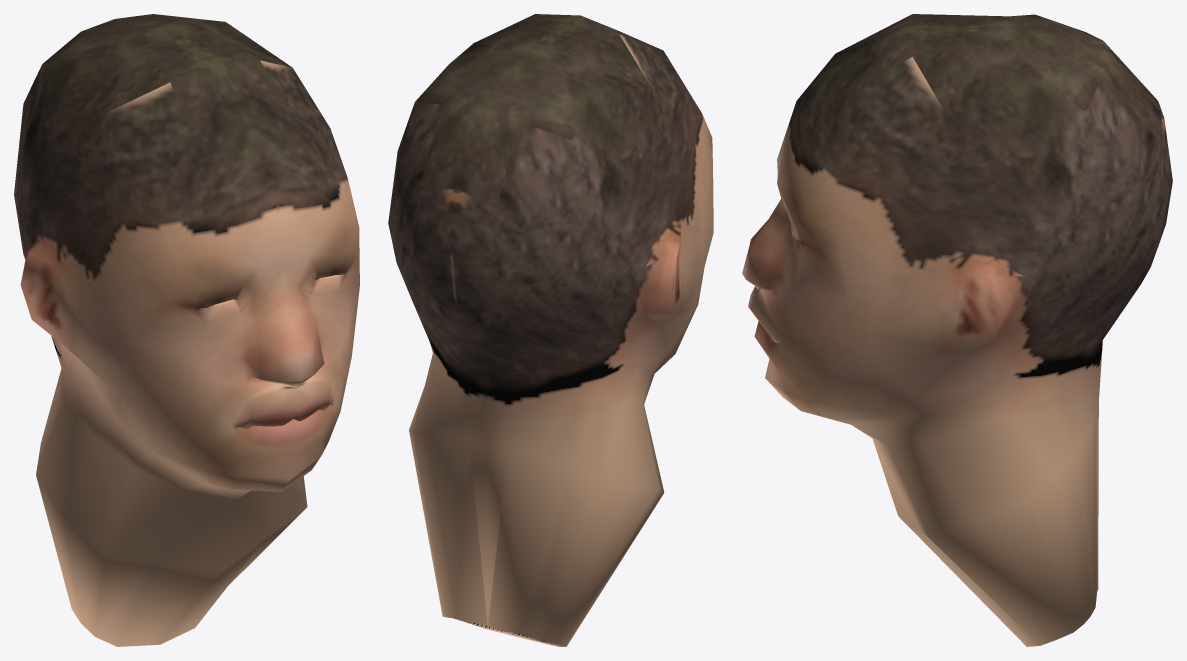
File: Animated.dae
3 renders of one model, left to right at view 1: azimuth 30°, elevation 25°; view 2: azimuth 150°, elevation 25°; view 3: azimuth 270°, elevation 25°, orthographic. The views are drawn at different scales.
Visible parts, largest first — view 1: Head; view 2: Head; view 3: Head.
Part boxes in pixels (x1,y1,x2,y2): Head: [14, 14, 359, 646]; Head: [388, 14, 713, 646]; Head: [742, 14, 1172, 646].
Bounding box in the file's own units: 0.1812 × 0.2366 × 0.3666.
Materials: 1 (1 with a texture image).
